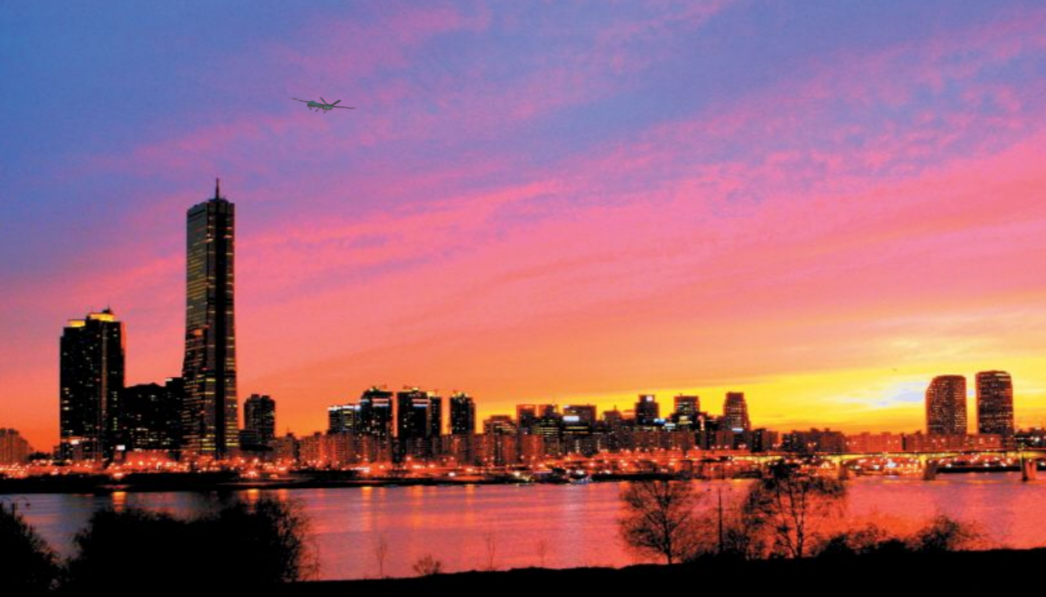military drone: (288, 96, 356, 114)
